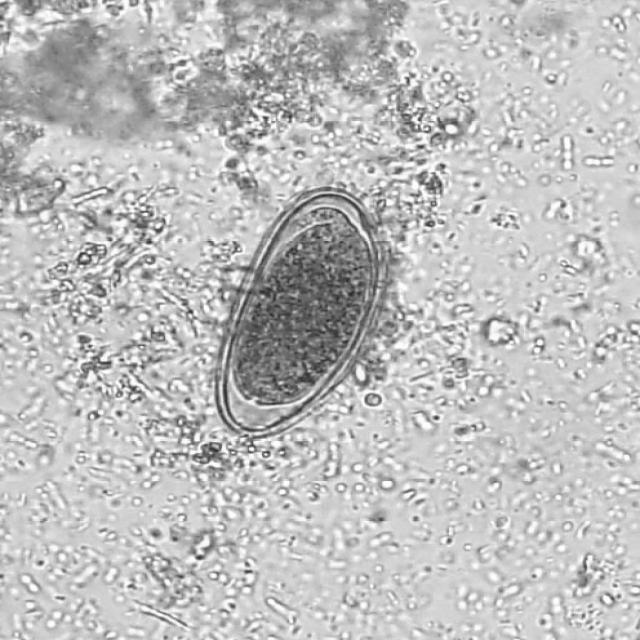Enterobius Vermicularis: (200, 179, 387, 447)
